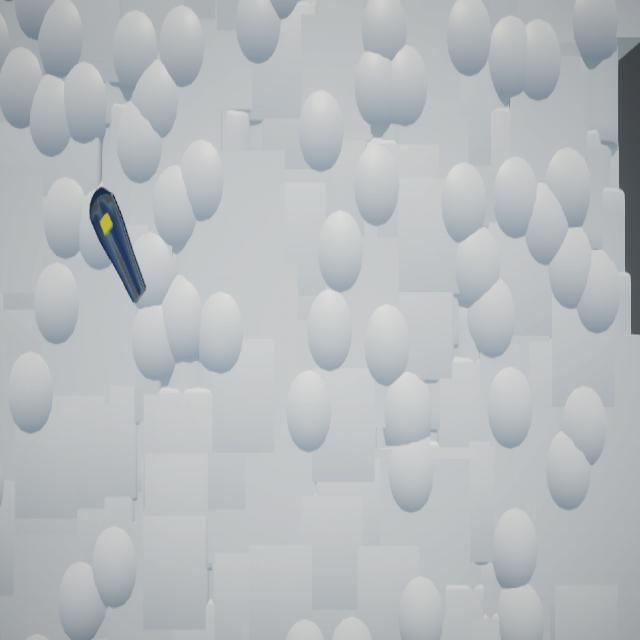handle_knife: (91, 187, 148, 305)
